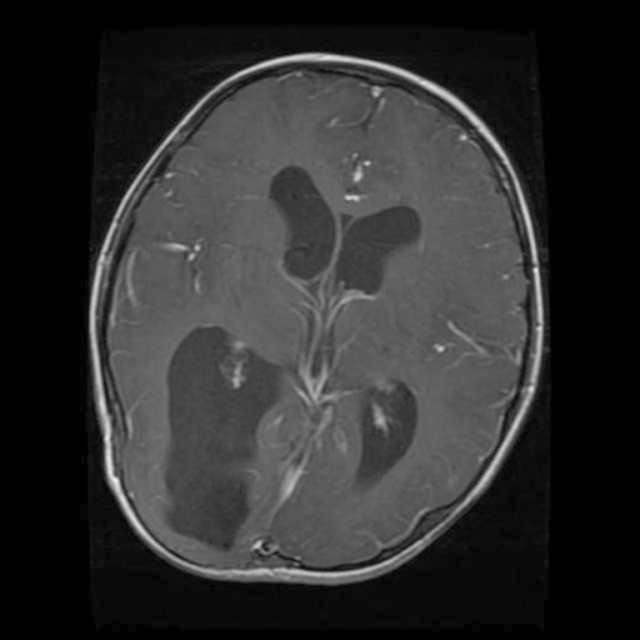pituitary tumor: (161, 336, 274, 544), (346, 380, 406, 482)
